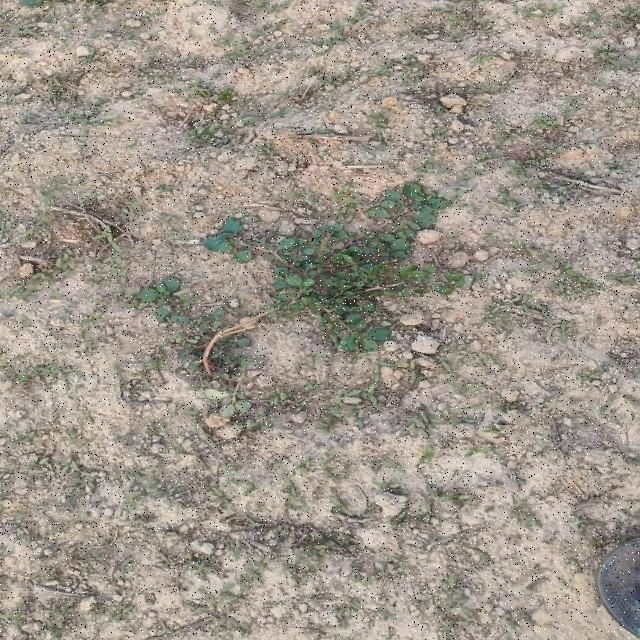weed: (130, 182, 472, 380), (206, 389, 251, 437)
